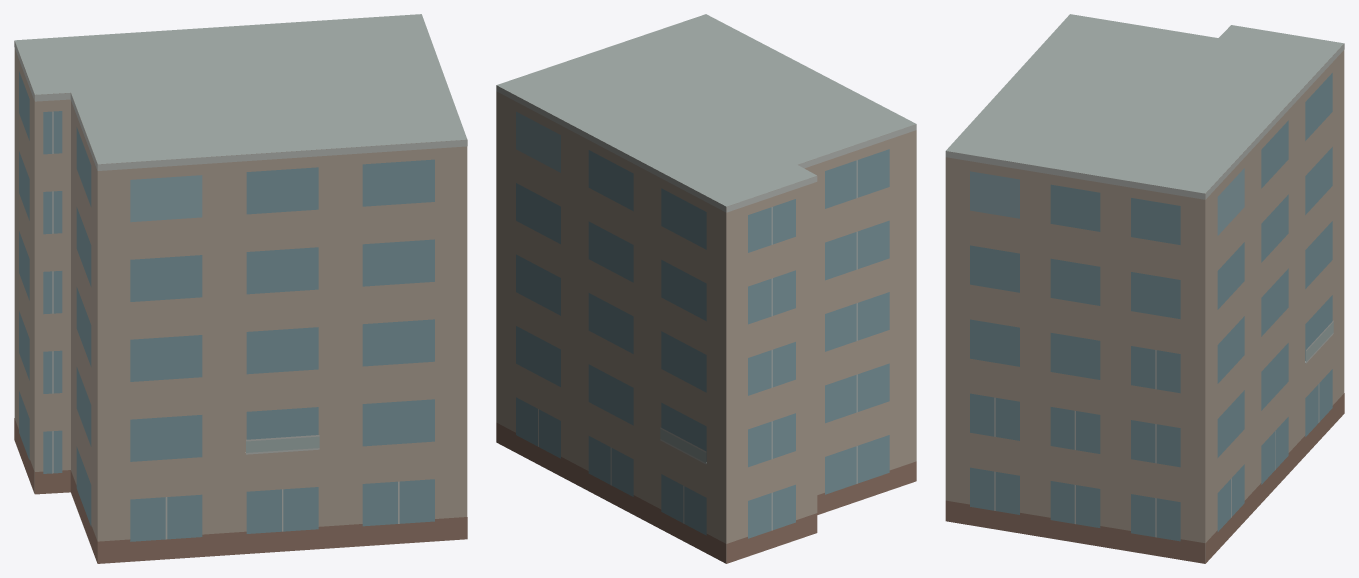
The model's file is survey-upis-32876784.glb.
3 views of the same model, side by side, from view 1: azimuth 30°, elevation 25°; view 2: azimuth 150°, elevation 25°; view 3: azimuth 270°, elevation 25° (orthographic). The views are drawn at different scales.
Parts seen in each view (by area): view 1: survey-upis-32876784.tmp; view 2: survey-upis-32876784.tmp; view 3: survey-upis-32876784.tmp.
Boxes of the visible parts, x1,y1,x2,y2 form: survey-upis-32876784.tmp: (14,14,467,563); survey-upis-32876784.tmp: (496,14,916,563); survey-upis-32876784.tmp: (945,14,1344,563).
Bounding box in the file's own units: 14.99 × 14.4 × 14.06.
